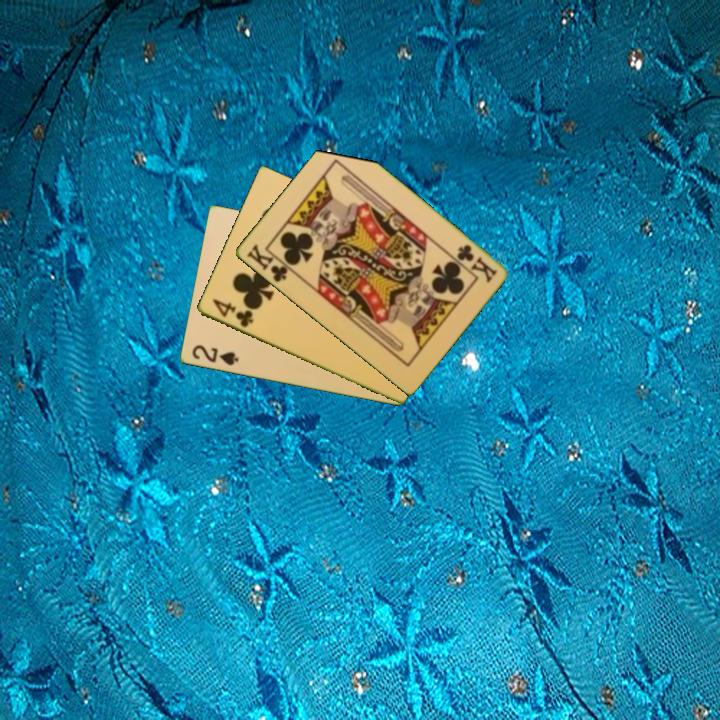2s: (188, 341, 241, 369)
4c: (208, 295, 256, 330)
Kc: (243, 240, 296, 285), (453, 241, 500, 286)
